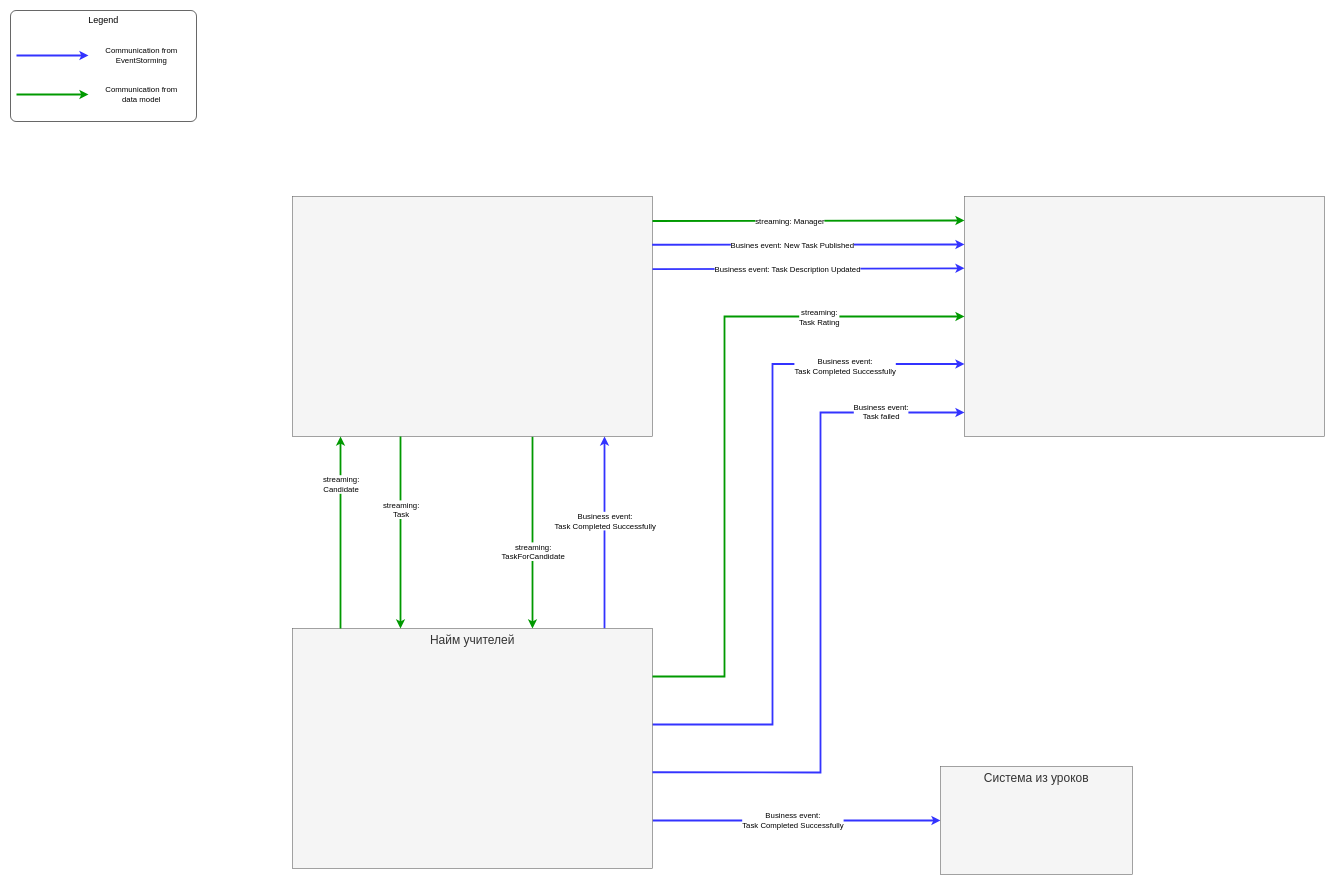
This 1335x885 diagram has some shape labels left out. Here are the shapes that lost their labels. From the top down, the centre of each, then its label:
At pixel 472 316: "Менеджмент заданий".
At pixel 1144 316: "Бонусы менеджеров".
